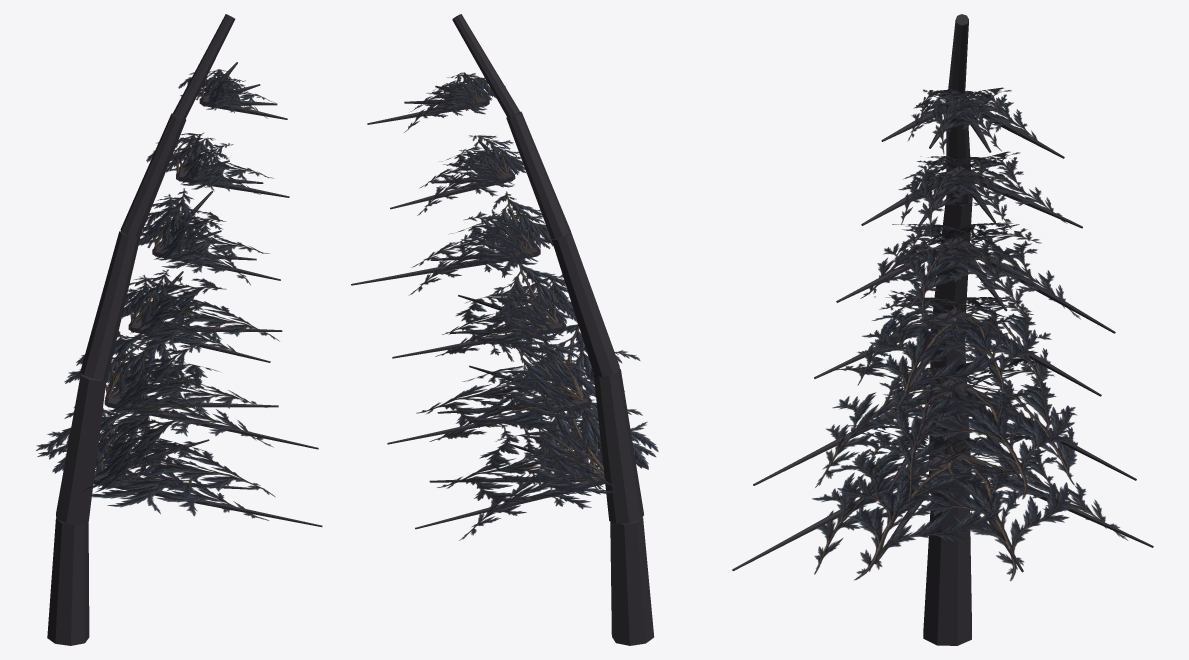
File: conifer-wind.glb
3 views of the same model, side by side, from view 1: azimuth 30°, elevation 25°; view 2: azimuth 150°, elevation 25°; view 3: azimuth 270°, elevation 25° (orthographic). The views are drawn at different scales.
Visible parts, largest first — view 1: conifer-wind; view 2: conifer-wind; view 3: conifer-wind.
Part boxes in pixels (x1=…): conifer-wind: x1=36, y1=14, x2=322, y2=645; conifer-wind: x1=351, y1=14, x2=658, y2=645; conifer-wind: x1=732, y1=14, x2=1153, y2=645.
Size of the model in its own units: 2.43 by 5.43 by 3.12.
2 materials, 1 textured.
